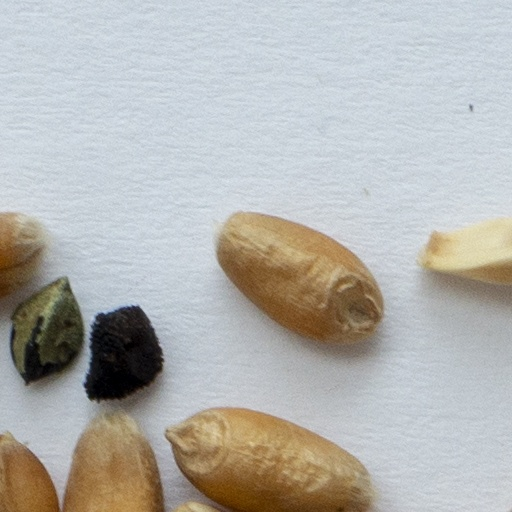Agrostemma-poly: (83, 305, 161, 405)
Fallopia-Convolvulus-poly: (12, 278, 81, 383)
